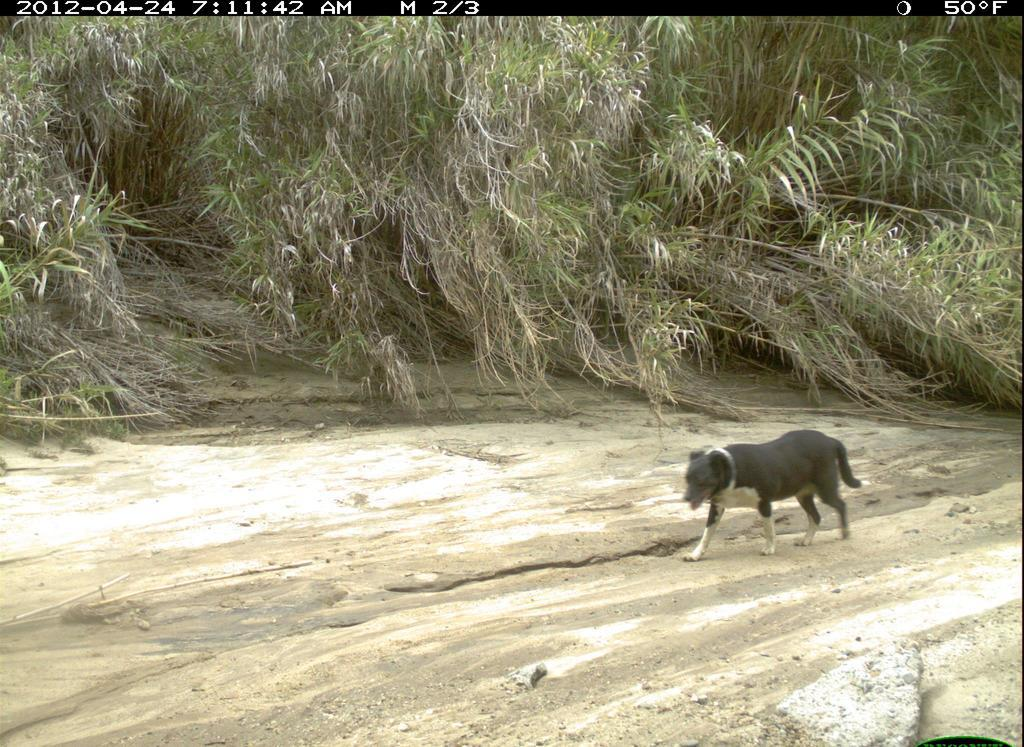dog: (653, 424, 880, 580)
